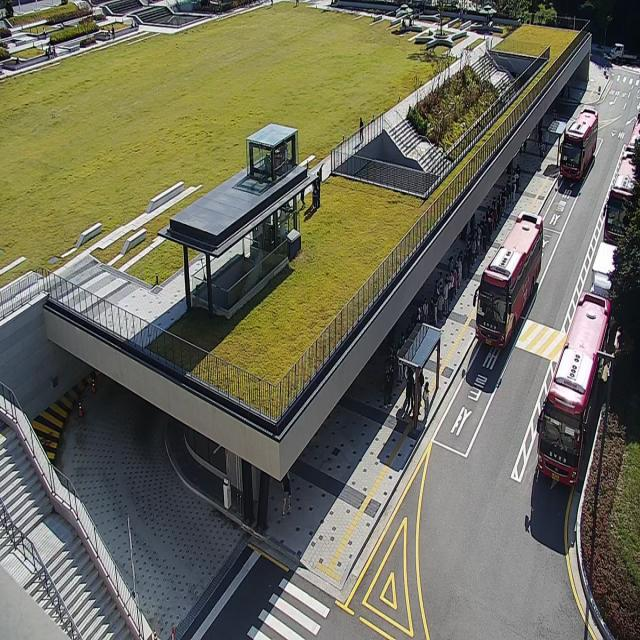queue: (416, 163, 522, 431)
